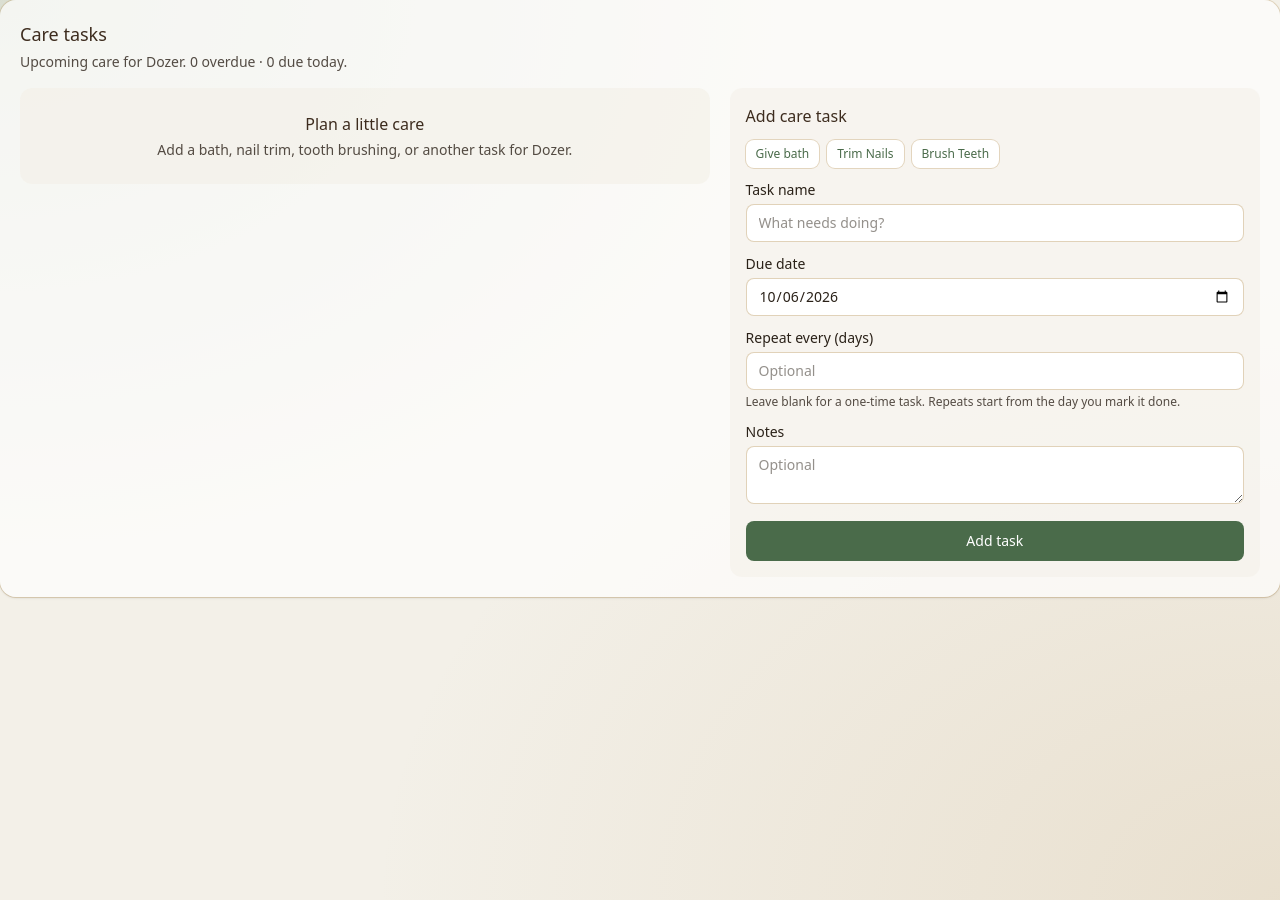
Test: CareTasksPanel › suggestions fill only the task name
The image size is (1280, 900).
Type "2026-10-01" into the date field labelled "Due date".
click(995, 297); type("2026-10-01")  # box [746, 278, 1244, 316]
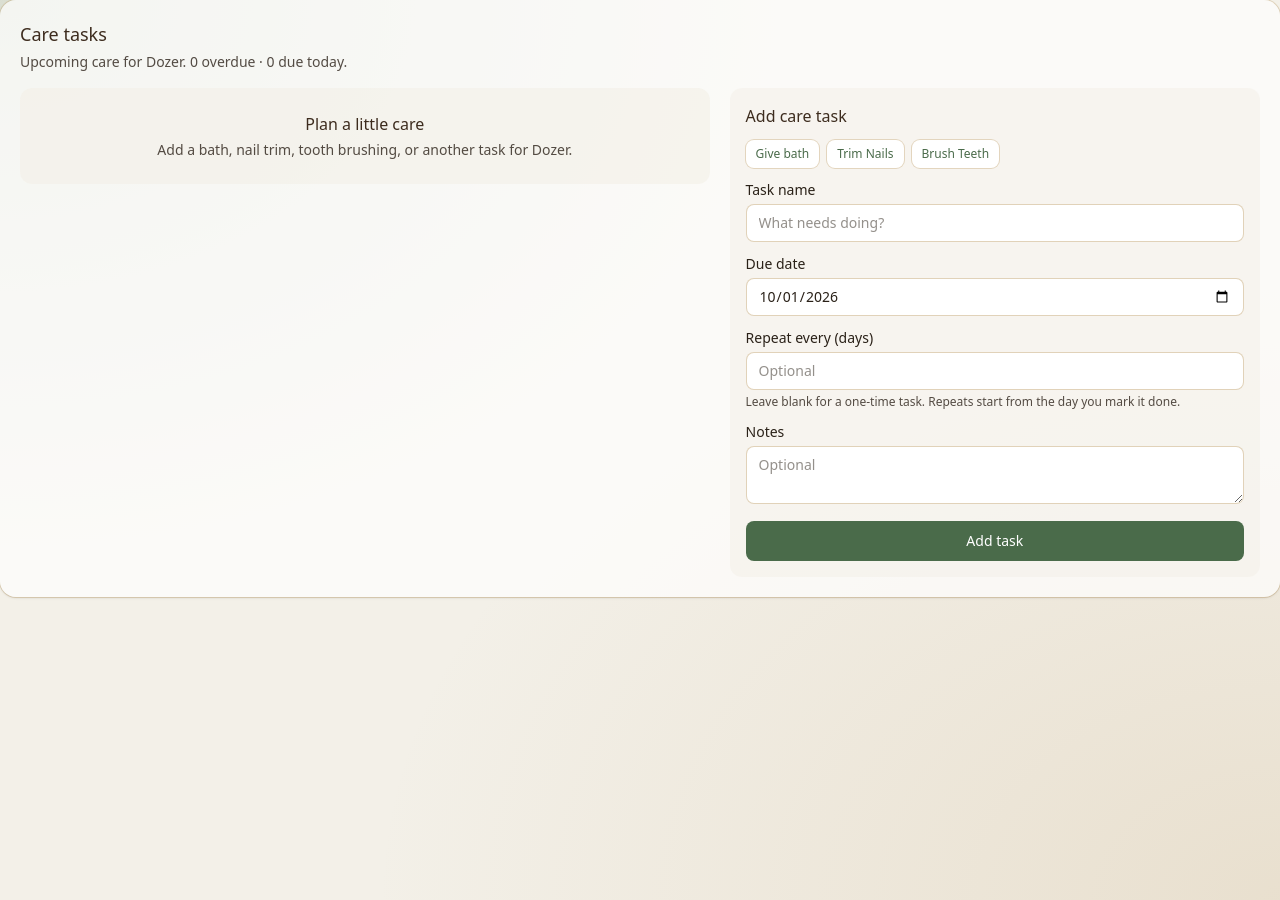
Click the button "Trim Nails".
click(865, 154)  # box [827, 140, 904, 168]
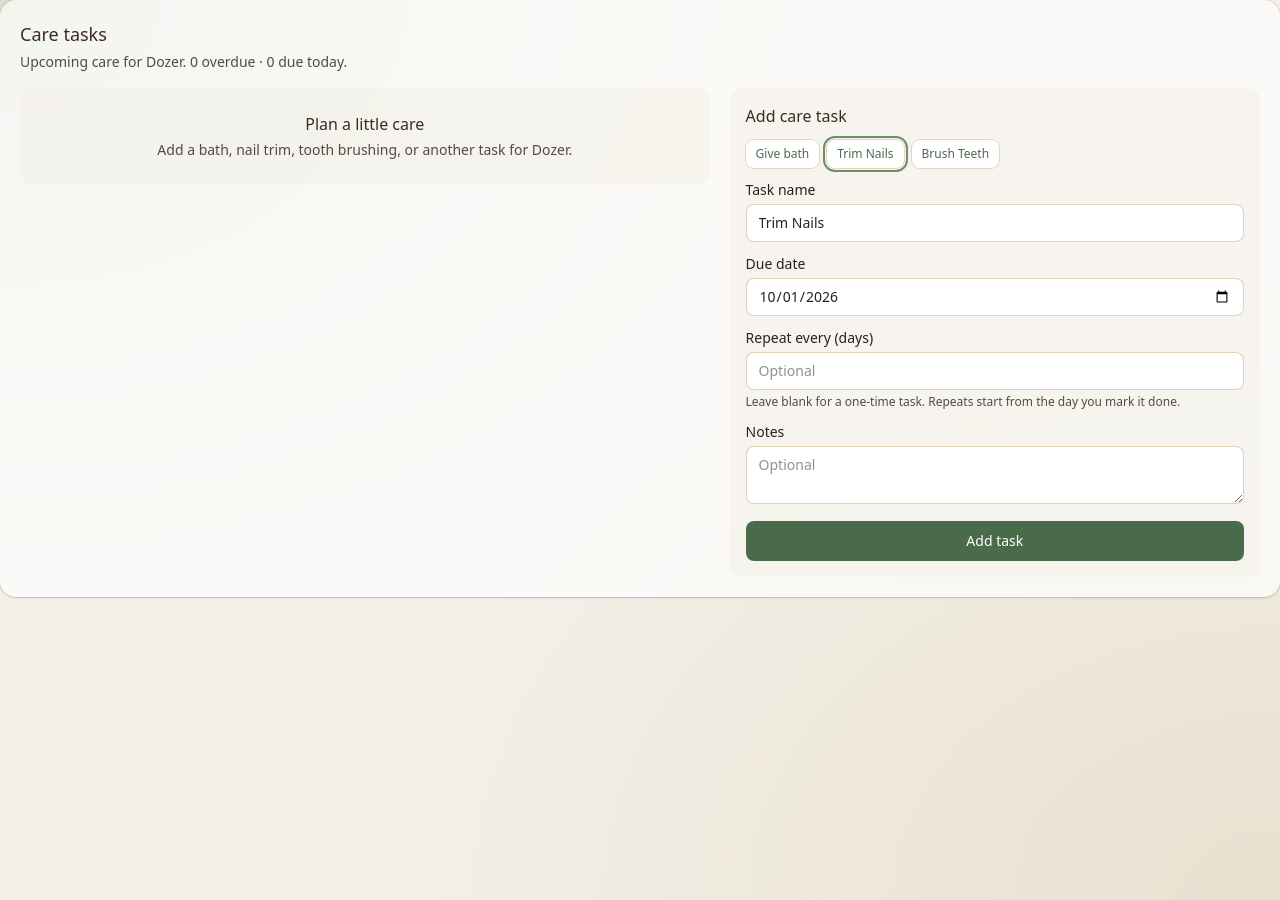
Expected: the number field labelled "Repeat every (days)" is not empty, [746, 352, 1244, 390]
Expected: the field labelled "Task name" holds "Trim Nails", [746, 204, 1244, 242]
